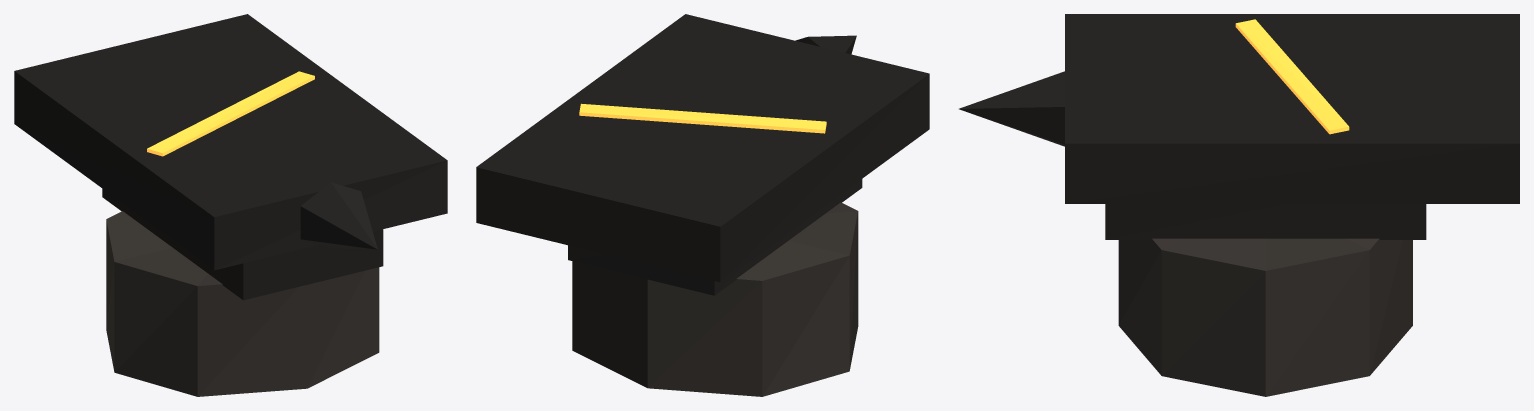
The model's file is crack-anvil-a.glb.
The picture shows the model from 3 angles, left to right: view 1: azimuth 30°, elevation 25°; view 2: azimuth 150°, elevation 25°; view 3: azimuth 270°, elevation 25°; orthographic projection. The views are drawn at different scales.
Visible parts, largest first — view 1: crack-anvil-a; view 2: crack-anvil-a; view 3: crack-anvil-a.
Part boxes in pixels (x1,y1,x2,y2): crack-anvil-a: (14, 14, 447, 396); crack-anvil-a: (476, 14, 929, 396); crack-anvil-a: (959, 14, 1519, 396).
Bounding box in the file's own units: 1.2 × 1 × 2.
